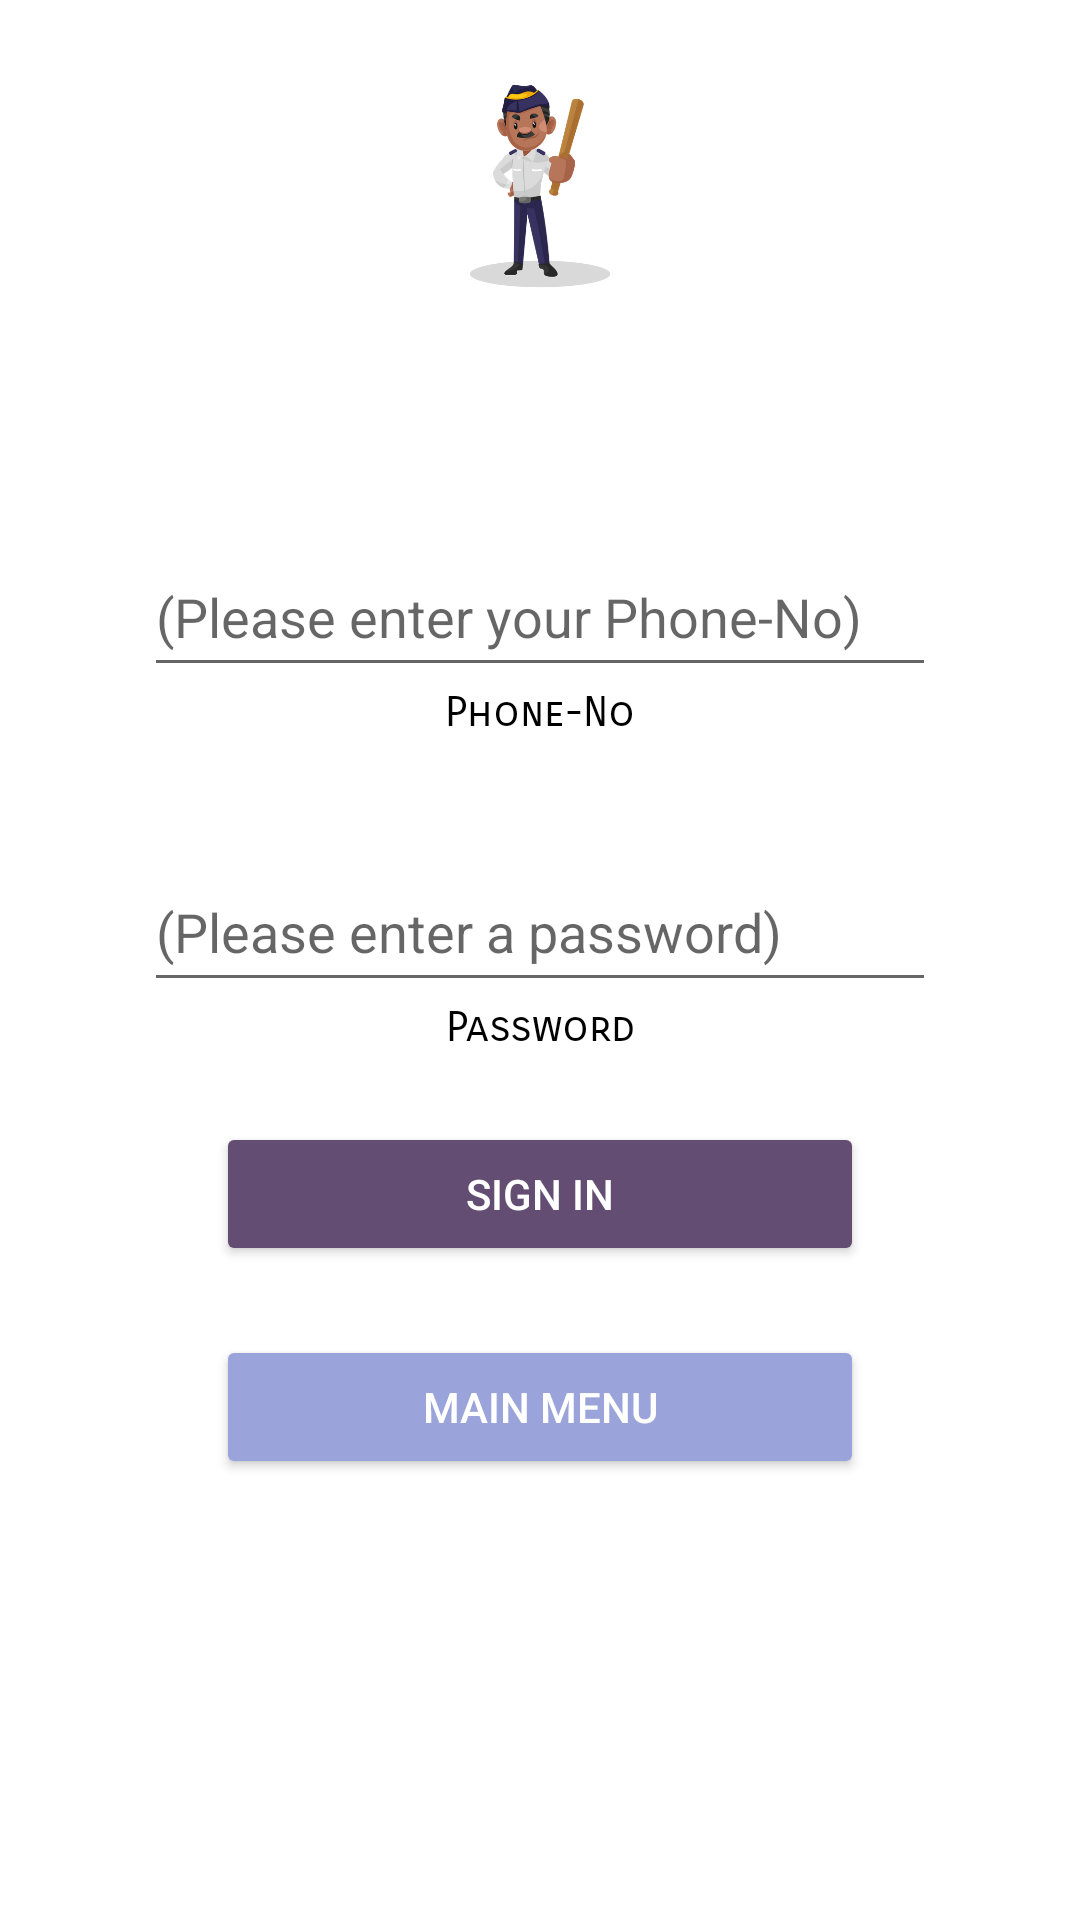

Where to tap for icons on this 1080*1920 app screen, as (x,y):
police: (540,186)
